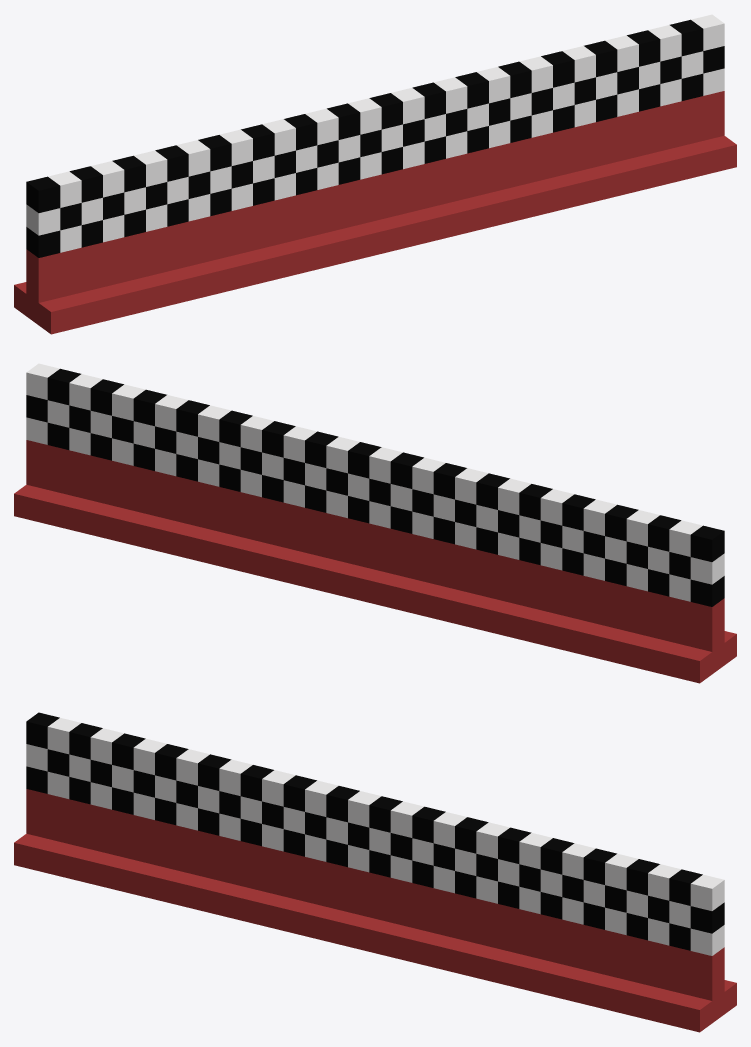
Rendered from wall.gltf.
The picture shows the model from 3 angles, top to bottom: view 1: azimuth 30°, elevation 25°; view 2: azimuth 150°, elevation 25°; view 3: azimuth 330°, elevation 25°; orthographic projection.
Bounding box in the file's own units: 32 × 6 × 3.
Materials: 1 (1 with a texture image).
